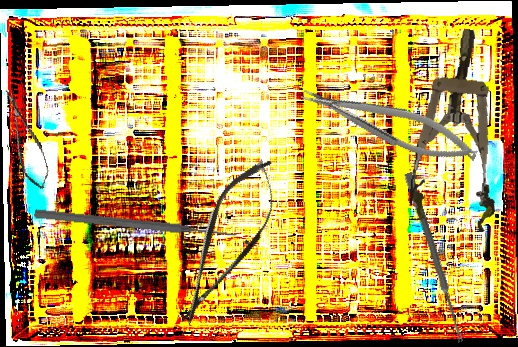Micro Scissor: (160, 148, 295, 337), (0, 84, 53, 193)
Needle Holder: (297, 69, 483, 177)
Pusher: (33, 207, 240, 242)
Speculum: (406, 25, 514, 233)
Surgical Spoon: (402, 171, 467, 344)
